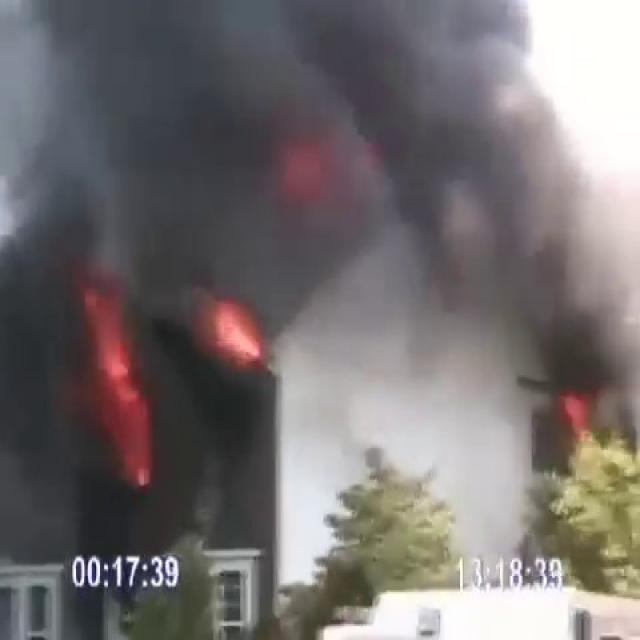Smoke: (0, 0, 637, 460)
